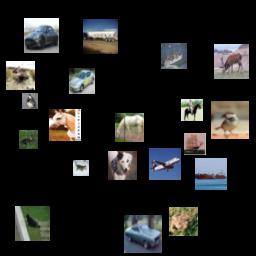airplane: (149, 148, 181, 180)
automobile: (124, 215, 162, 253), (24, 18, 59, 53), (69, 68, 95, 94)
bird: (211, 101, 249, 139), (22, 93, 38, 109)
cat: (15, 206, 50, 241), (6, 61, 35, 90), (19, 130, 38, 149), (73, 160, 89, 176)
deer: (214, 44, 249, 79)
dog: (108, 151, 137, 180)
frog: (169, 207, 198, 236)
ship: (195, 158, 227, 190), (161, 43, 187, 69), (184, 133, 206, 155)
truck: (83, 19, 118, 54)
